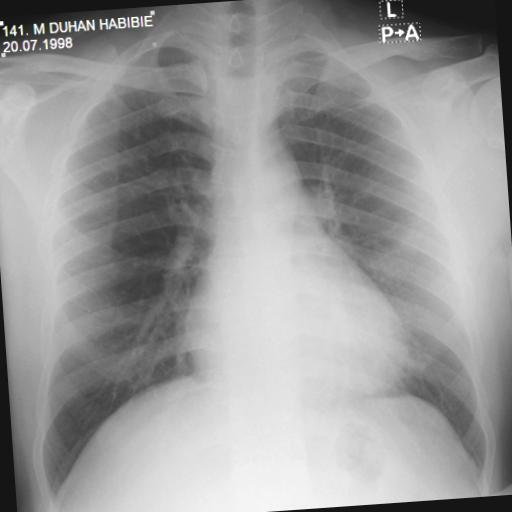kardiomegali: (0, 7, 499, 512)
